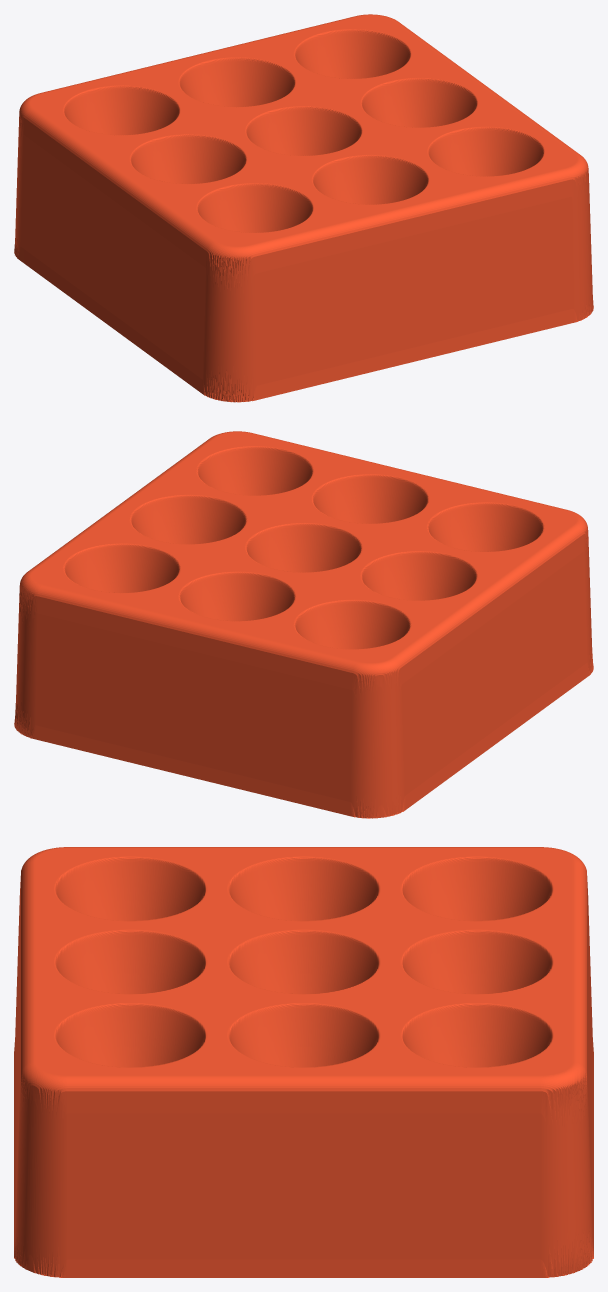
File: mold.glb
3 views of the same model, one above another, from view 1: azimuth 30°, elevation 25°; view 2: azimuth 150°, elevation 25°; view 3: azimuth 270°, elevation 25° (orthographic). The views are drawn at different scales.
Parts seen in each view (by area): view 1: geometry_0; view 2: geometry_0; view 3: geometry_0.
Part boxes in pixels (x1,y1,x2,y2): geometry_0: (14,14,593,402); geometry_0: (14,431,593,818); geometry_0: (14,847,593,1277).
Size of the model in its own units: 0.0984 by 0.0362 by 0.0984.
